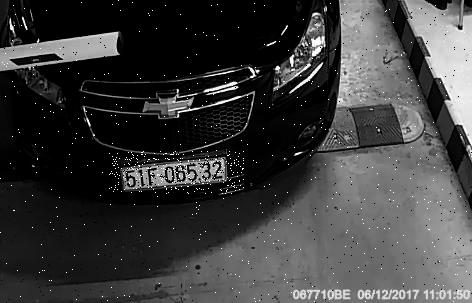License-plate: (110, 152, 245, 195)
